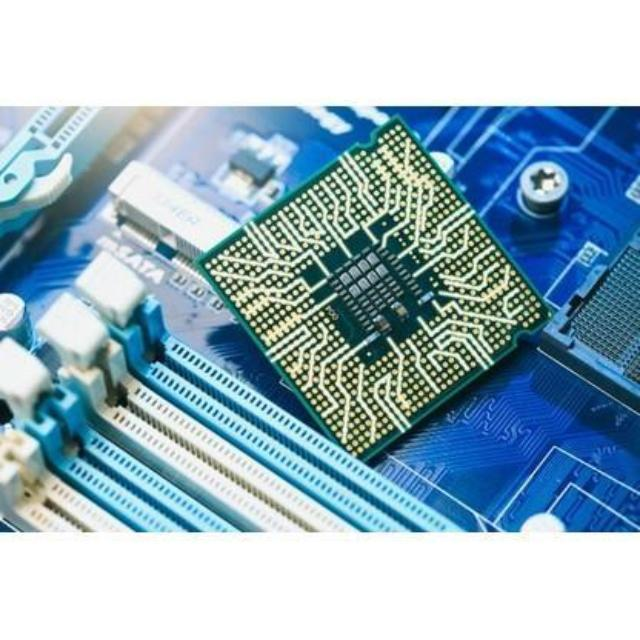CPU: (194, 116, 548, 470)
